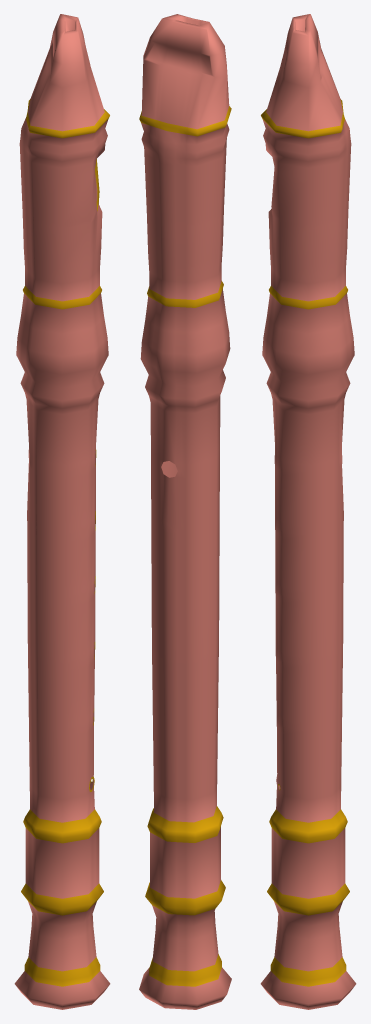
File: flut.fbx
The picture shows the model from 3 angles, left to right: view 1: azimuth 90°, elevation 25°; view 2: azimuth 150°, elevation 25°; view 3: azimuth 270°, elevation 25°; orthographic projection.
Parts seen in each view (by area): view 1: flut; view 2: flut; view 3: flut.
Part boxes in pixels (x1=…): flut: x1=14, y1=14, x2=110, y2=1009; flut: x1=139, y1=14, x2=231, y2=1009; flut: x1=260, y1=14, x2=356, y2=1009.
Size of the model in its own units: 5.67 by 62.42 by 5.61.
